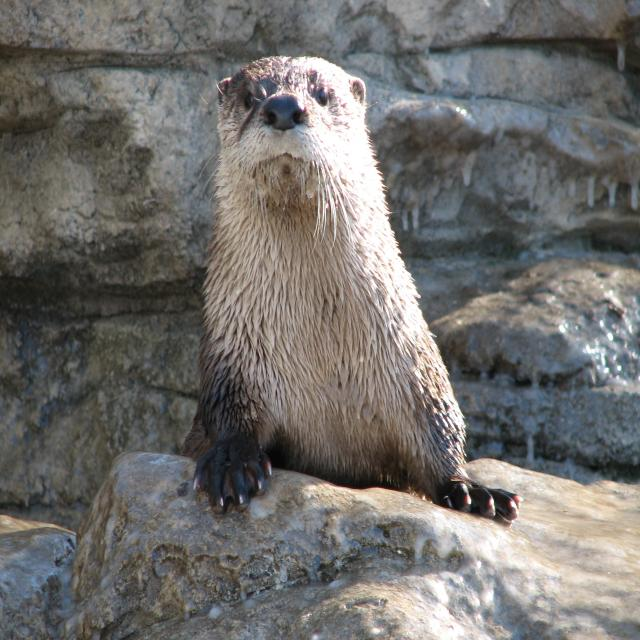otter: (186, 57, 524, 526)
